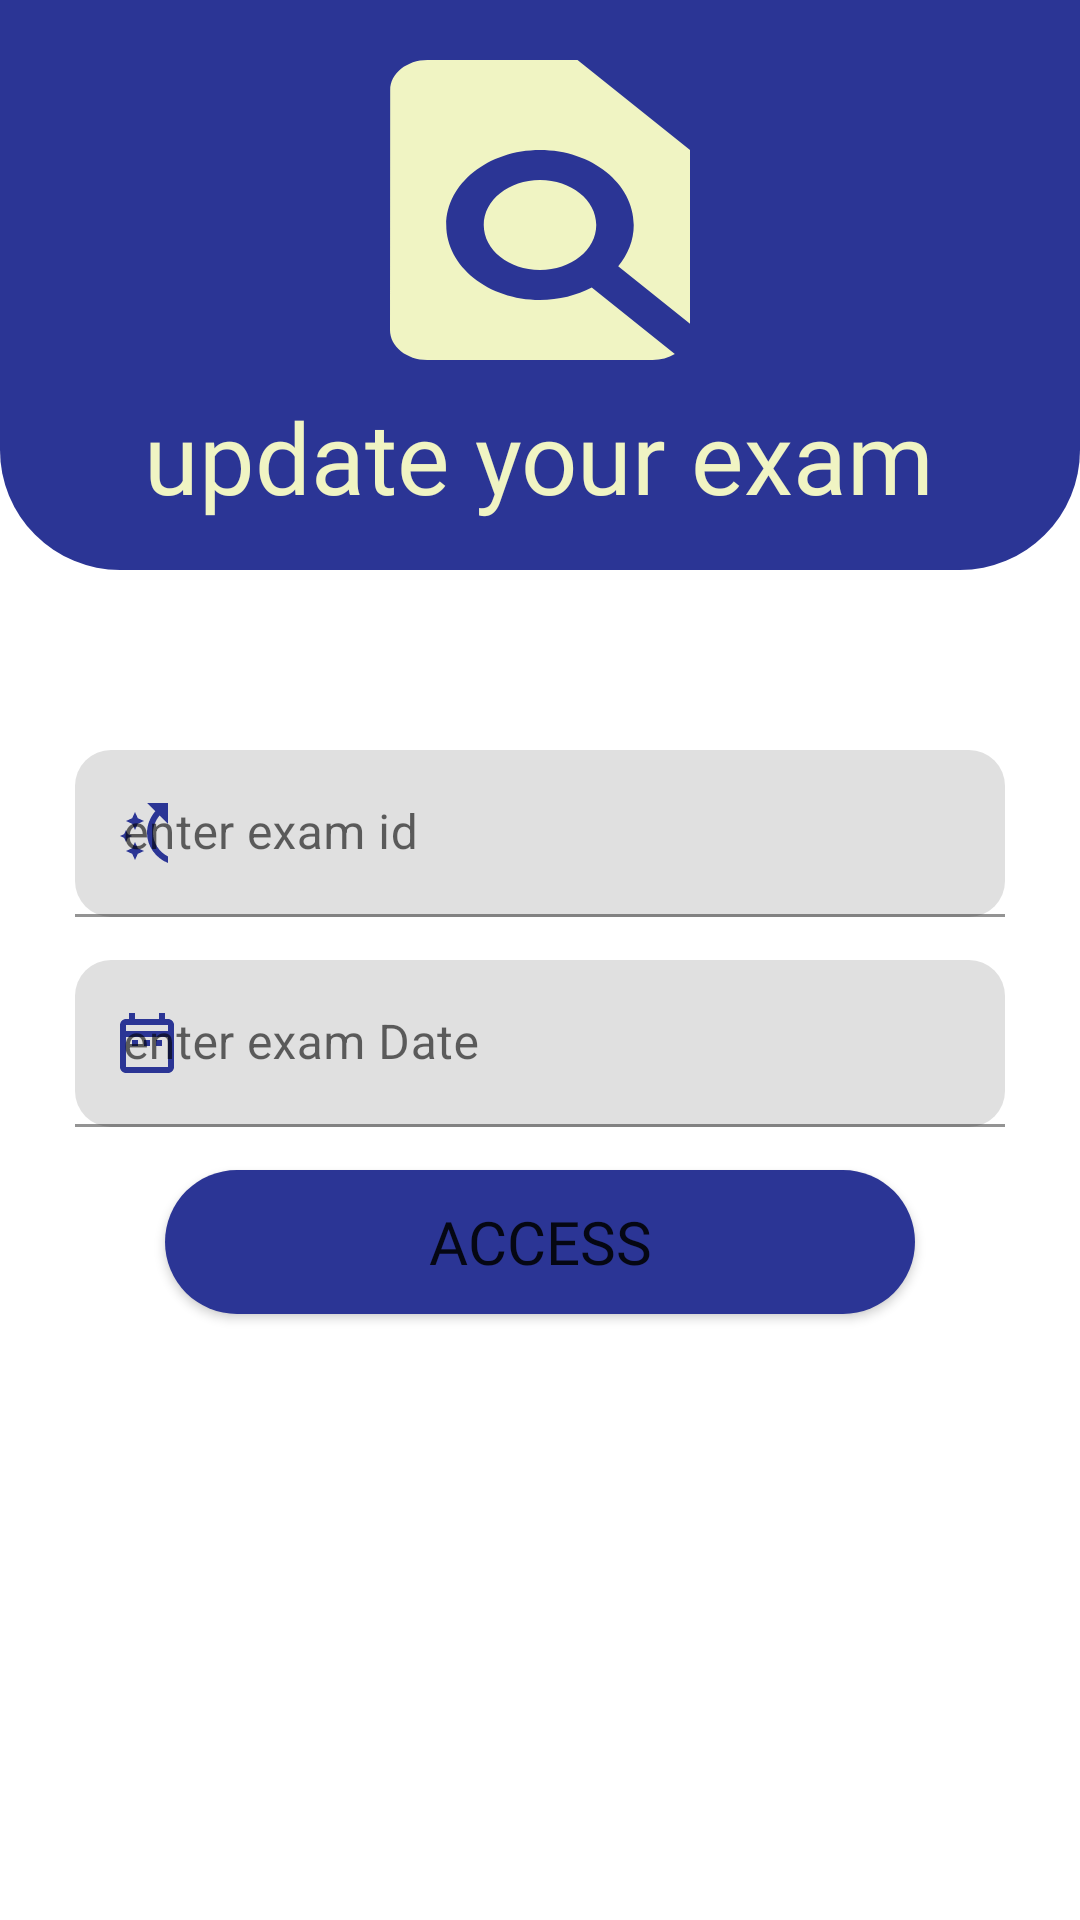

Icons on this 1080×1920 Android screen, each with its box as BBox(x1, y1, x2, y2):
find in page: BBox(390, 60, 690, 360)
